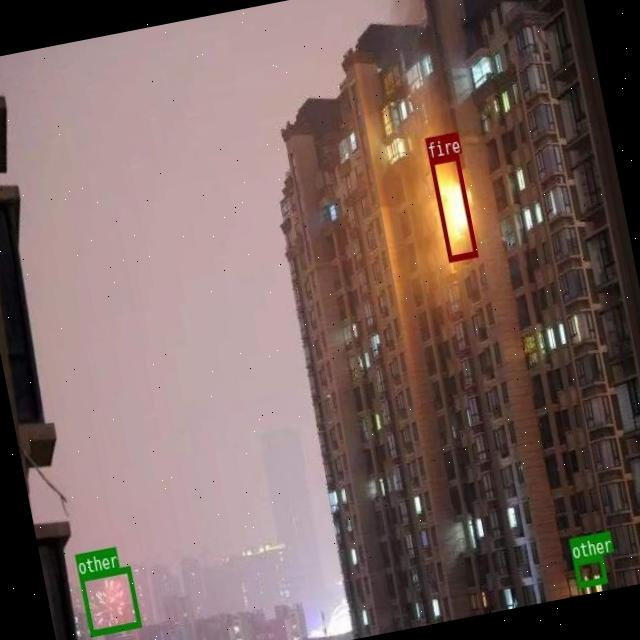fire: (429, 154, 476, 261)
